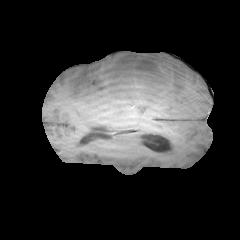glioma: (93, 53, 186, 111)
